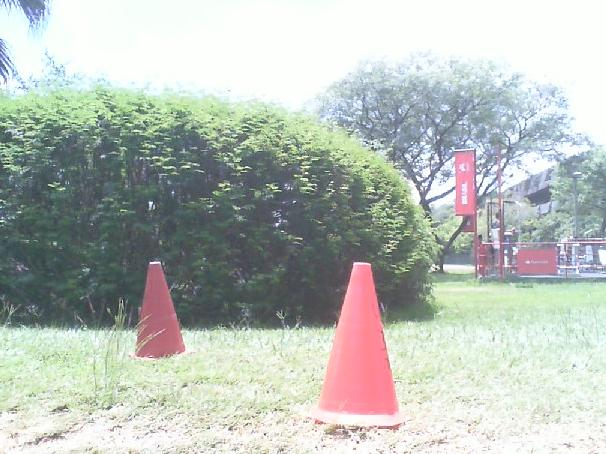0 cone: (306, 263, 416, 429), (129, 262, 194, 359)
